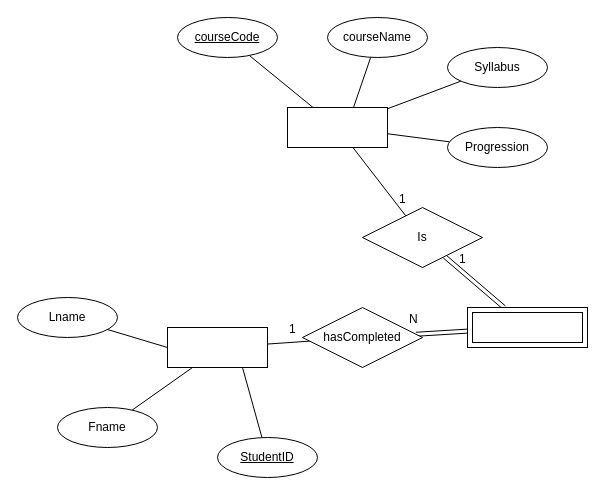
This 605x495 diagram has some shape labels left out. Each missing label, with the centre of its shape:
CompletedCourse: pixel 527 327
Course: pixel 337 127
Student: pixel 217 347
